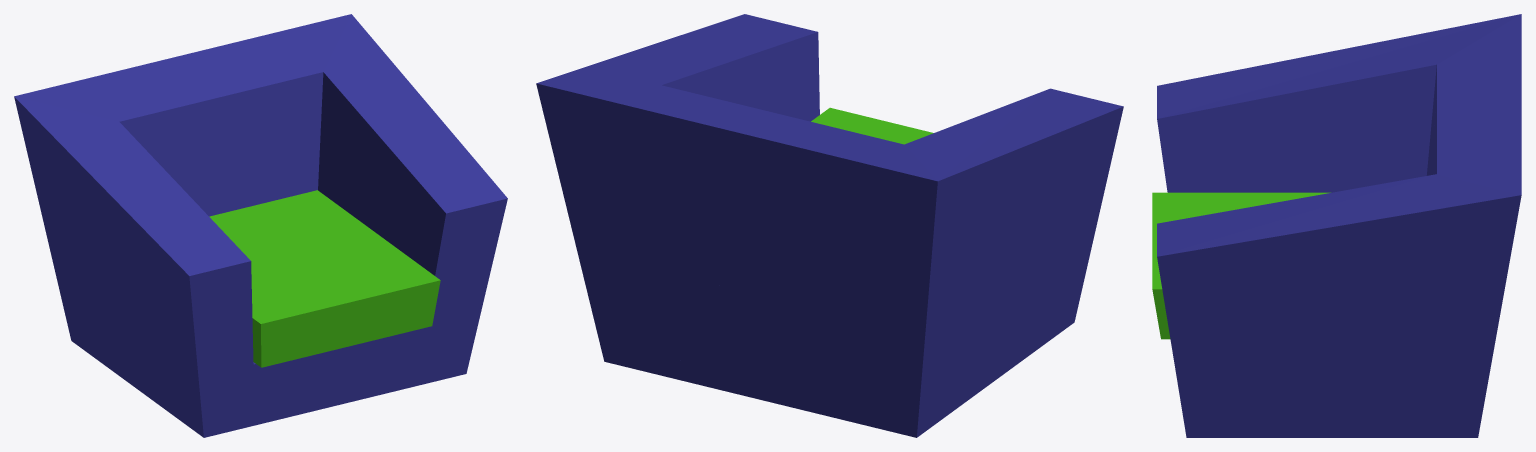
File: House_LivingRoom_Chair.FBX
The picture shows the model from 3 angles, left to right: view 1: azimuth 30°, elevation 25°; view 2: azimuth 150°, elevation 25°; view 3: azimuth 270°, elevation 25°; orthographic projection. The views are drawn at different scales.
Parts seen in each view (by area): view 1: House_LivingRoom_Chair_chunkLeft, House_LivingRoom_Chair_chunkRight, House_LivingRoom_Chair_cushion; view 2: House_LivingRoom_Chair_chunkLeft, House_LivingRoom_Chair_chunkRight, House_LivingRoom_Chair_cushion; view 3: House_LivingRoom_Chair_chunkRight, House_LivingRoom_Chair_chunkLeft, House_LivingRoom_Chair_cushion.
Boxes of the visible parts, left/top/right/bottom form: House_LivingRoom_Chair_chunkLeft: left=14, top=66, right=409, bottom=437; House_LivingRoom_Chair_chunkRight: left=136, top=14, right=507, bottom=387; House_LivingRoom_Chair_cushion: left=209, top=190, right=440, bottom=367; House_LivingRoom_Chair_chunkLeft: left=671, top=88, right=1123, bottom=437; House_LivingRoom_Chair_chunkRight: left=536, top=14, right=827, bottom=377; House_LivingRoom_Chair_cushion: left=811, top=107, right=933, bottom=144; House_LivingRoom_Chair_chunkRight: left=1157, top=79, right=1521, bottom=437; House_LivingRoom_Chair_chunkLeft: left=1157, top=14, right=1521, bottom=192; House_LivingRoom_Chair_cushion: left=1152, top=192, right=1330, bottom=339.
Bounding box in the file's own units: 2.43 × 2.1 × 1.65.
